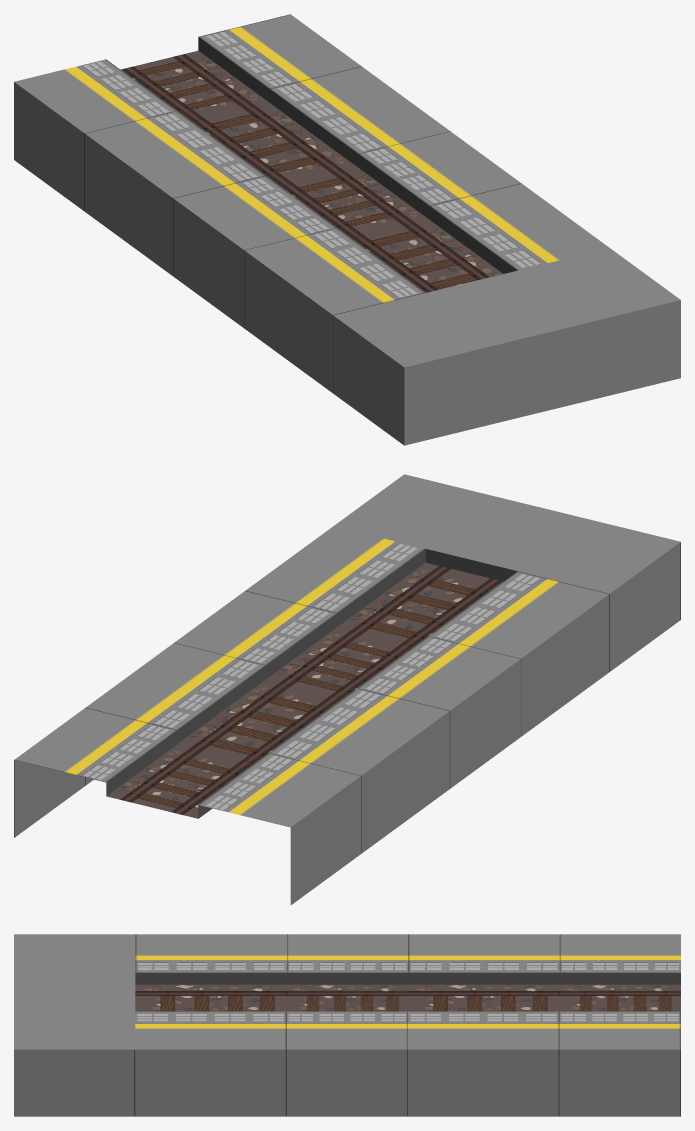
Rendered from city_train_track_end.fbx.
The picture shows the model from 3 angles, top to bottom: view 1: azimuth 30°, elevation 25°; view 2: azimuth 150°, elevation 25°; view 3: azimuth 270°, elevation 25°; orthographic projection. The views are drawn at different scales.
Parts seen in each view (by area): view 1: track_end; view 2: track_end; view 3: track_end.
Boxes of the visible parts, bbox=[...] form: track_end: bbox=[14, 14, 680, 445]; track_end: bbox=[14, 474, 680, 905]; track_end: bbox=[14, 934, 680, 1116].
Bounding box in the file's own units: 9 × 2.43 × 22.
